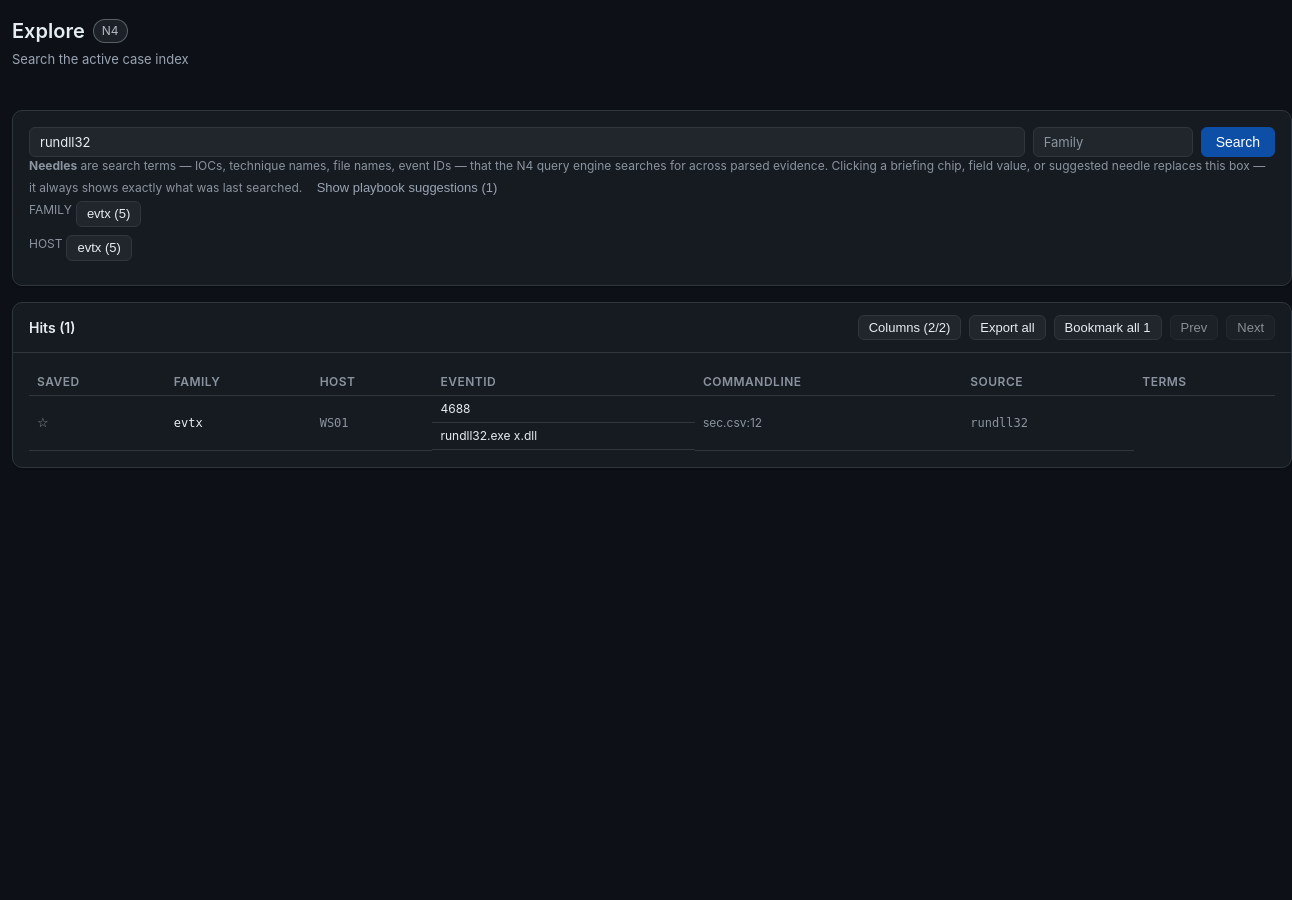
Test: Explore page (WP 4j.5) › rotates the needle on a playbook suggestion — never appends
Click the button "Show playbook suggestions (1)" at (407, 188), box x1=306 y1=175 x2=508 y2=201
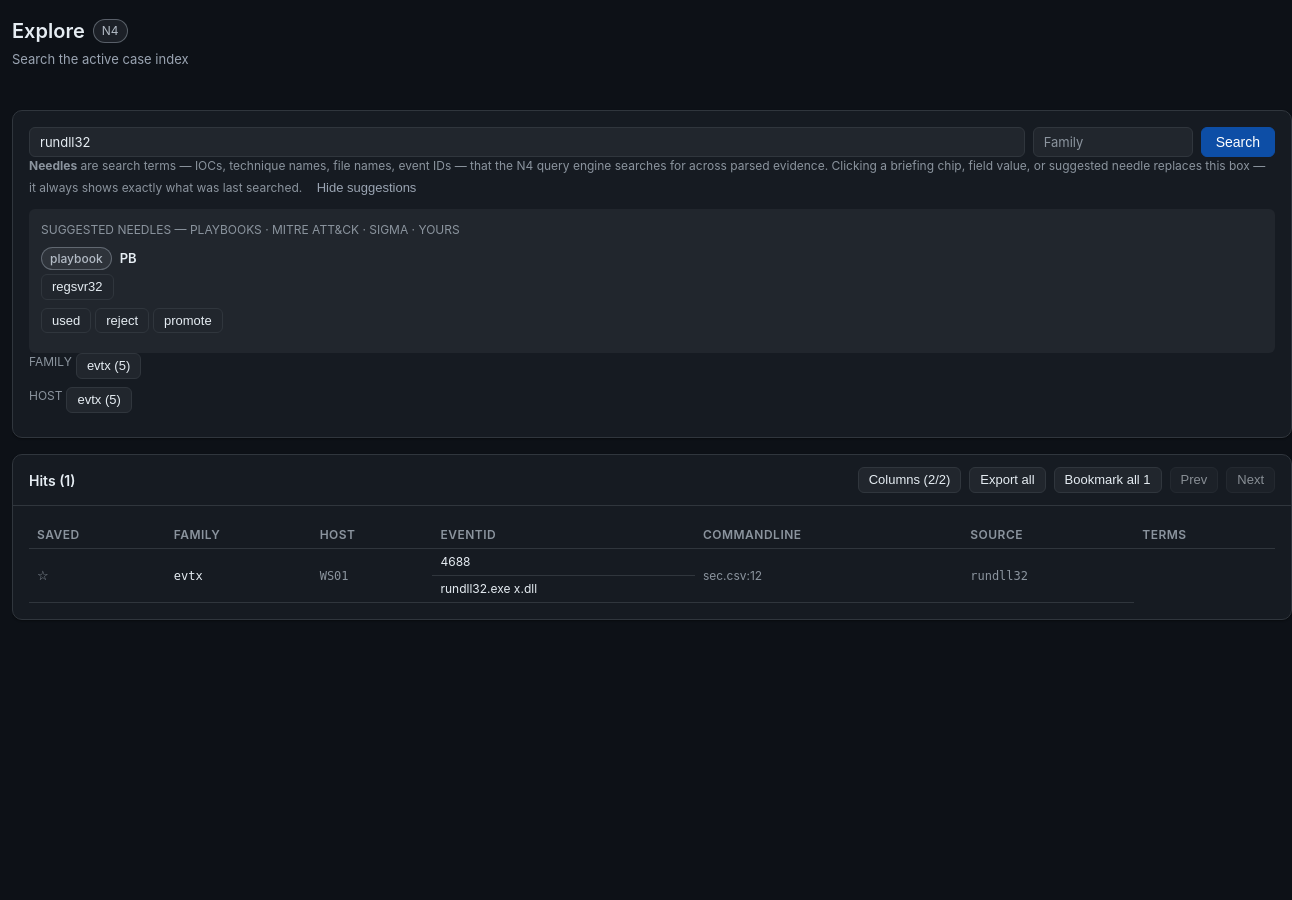
Click the button "regsvr32" at (77, 287), box x1=41 y1=274 x2=114 y2=300
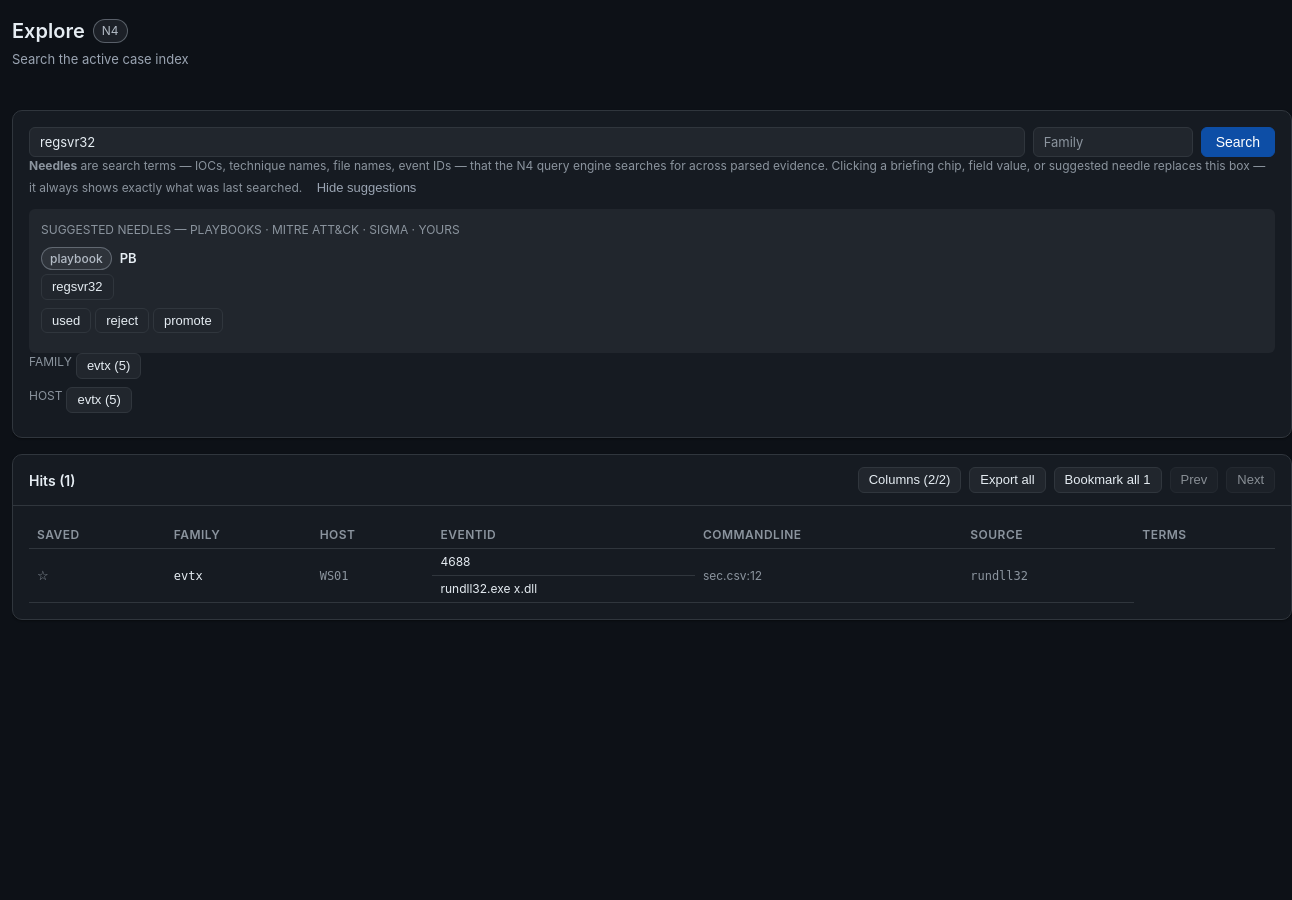
Expected: the field showing "regsvr32" holds "regsvr32", x1=29 y1=127 x2=1025 y2=157
